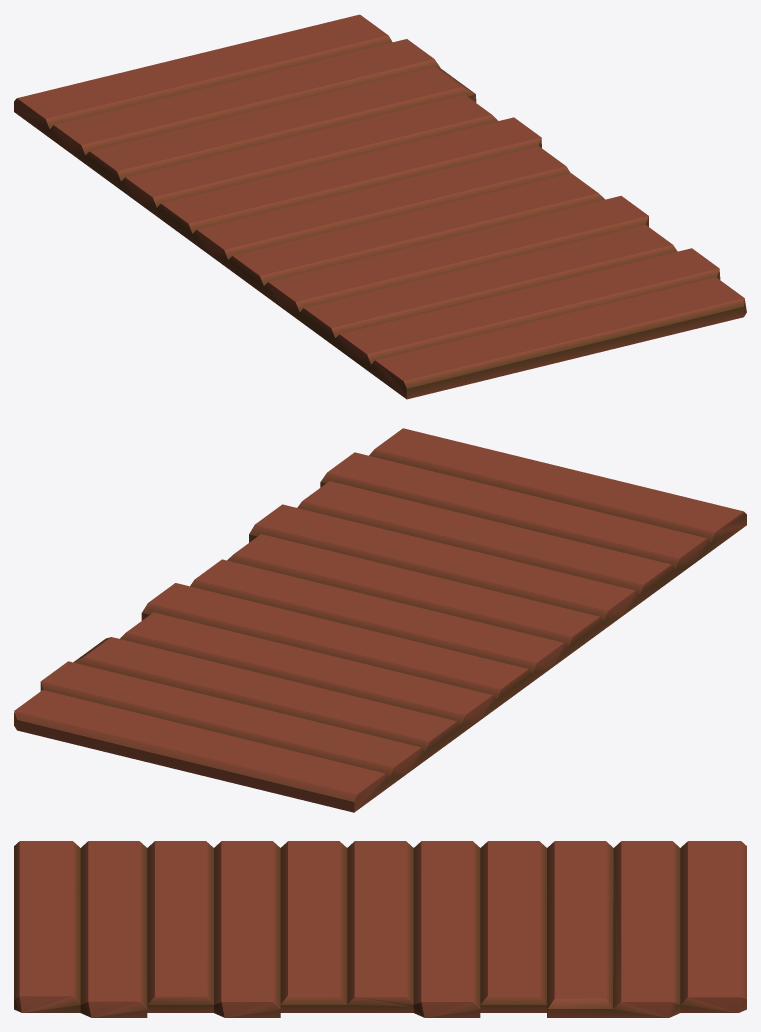
File: woodenploorpatch1.glb
The picture shows the model from 3 angles, top to bottom: view 1: azimuth 30°, elevation 25°; view 2: azimuth 150°, elevation 25°; view 3: azimuth 270°, elevation 25°; orthographic projection. The views are drawn at different scales.
Parts seen in each view (by area): view 1: WoodenPloorPatch1_mesh1; view 2: WoodenPloorPatch1_mesh1; view 3: WoodenPloorPatch1_mesh1.
Part boxes in pixels (x1,y1,x2,y2): WoodenPloorPatch1_mesh1: (14,14,746,399); WoodenPloorPatch1_mesh1: (14,428,746,812); WoodenPloorPatch1_mesh1: (14,841,746,1017).
Size of the model in its own units: 3.63 by 0.1564 by 6.95.
1 material, 1 textured.
